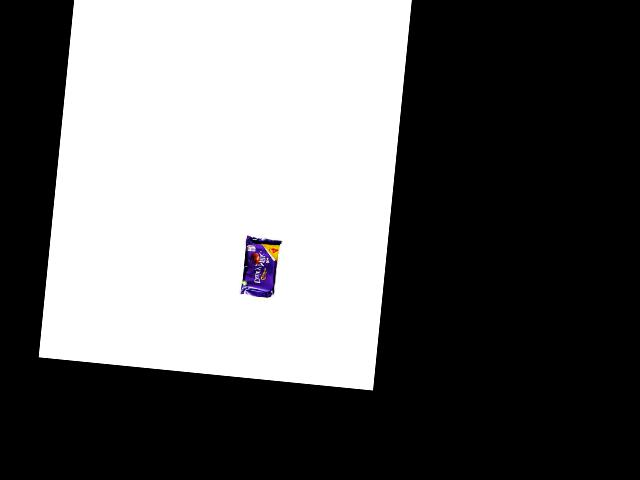chocolate: (235, 228, 282, 300)
